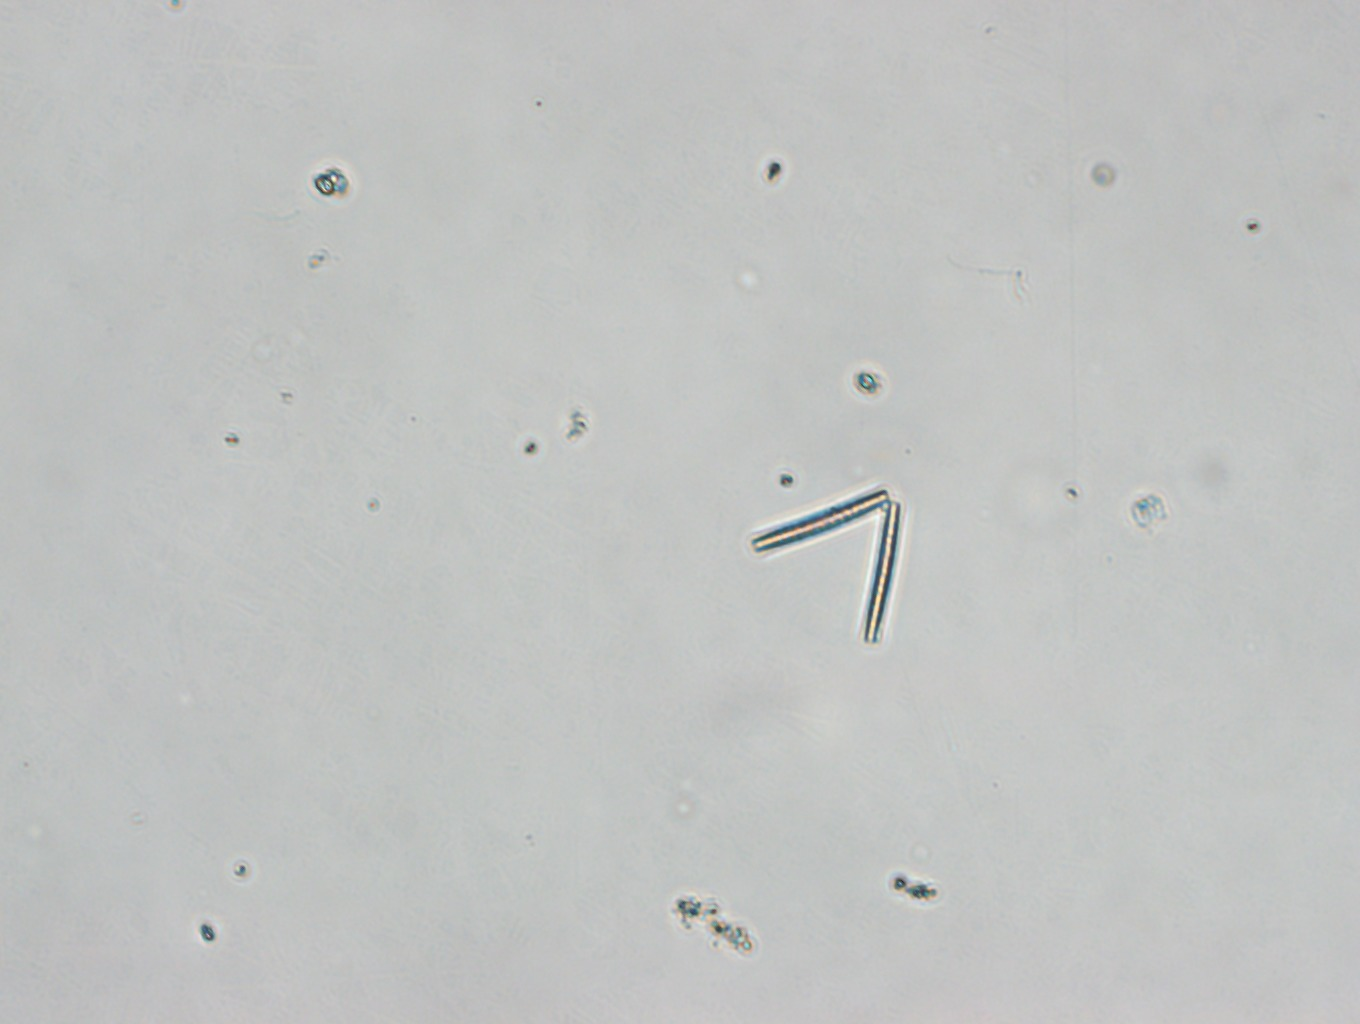thalassionema frauenfeldii: (741, 483, 910, 659)
